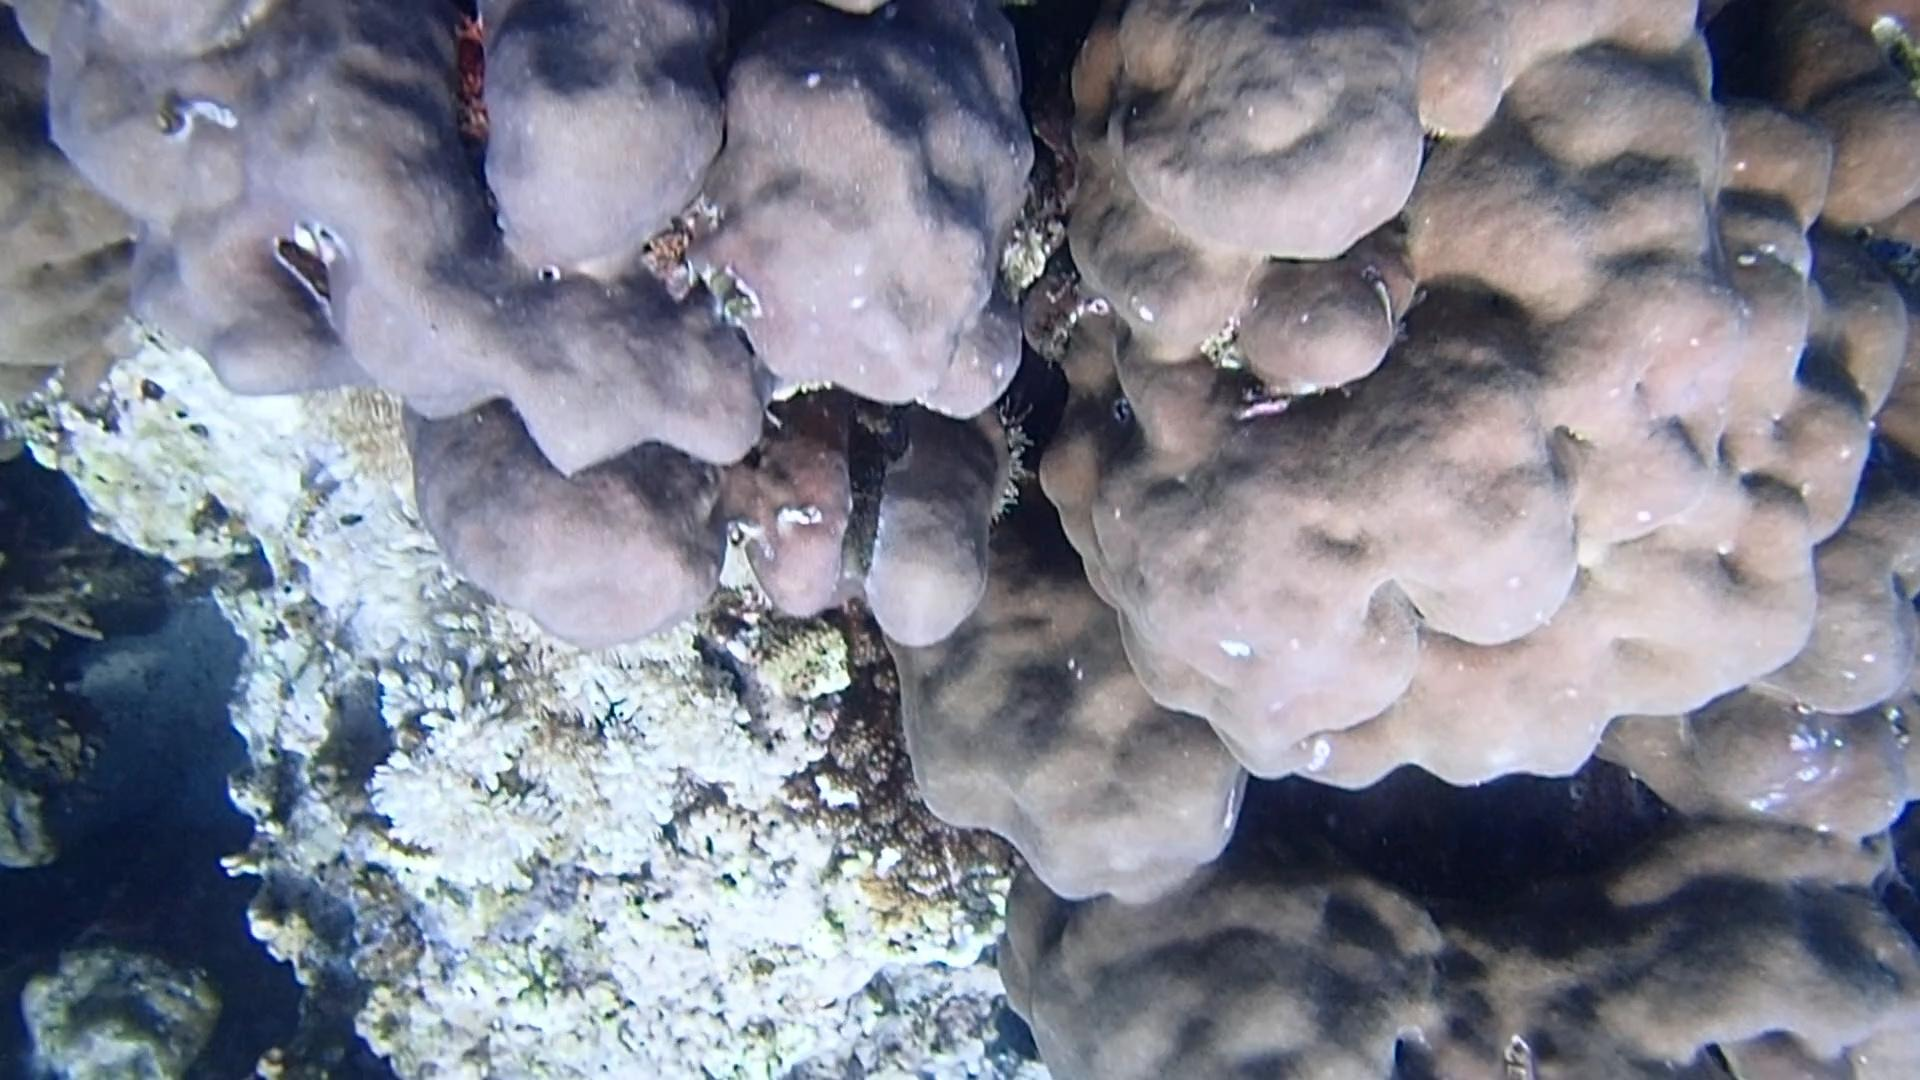Dark Fish: (989, 996, 1042, 1069)
